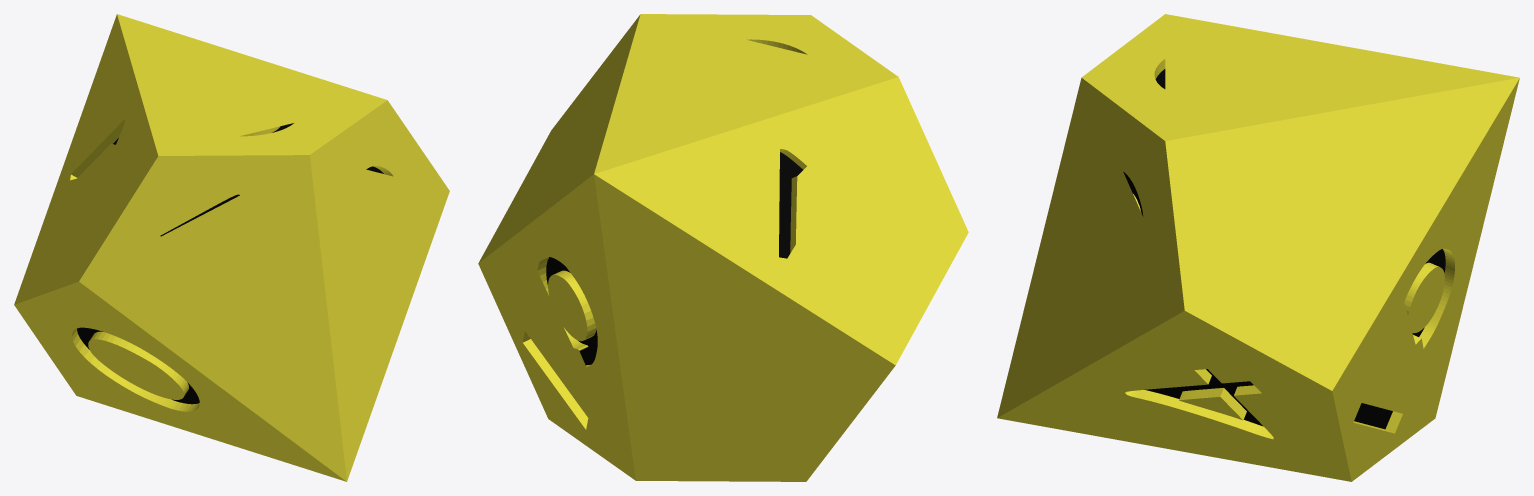
The picture shows the model from 3 angles, left to right: view 1: azimuth 30°, elevation 25°; view 2: azimuth 150°, elevation 25°; view 3: azimuth 270°, elevation 25°; orthographic projection. The views are drawn at different scales.
Parts seen in each view (by area): view 1: Die; view 2: Die; view 3: Die.
Boxes of the visible parts, x1,y1,x2,y2 form: Die: [14, 14, 449, 481]; Die: [478, 14, 968, 481]; Die: [997, 14, 1519, 481].
Size of the model in its own units: 2201 by 1700 by 2364.
